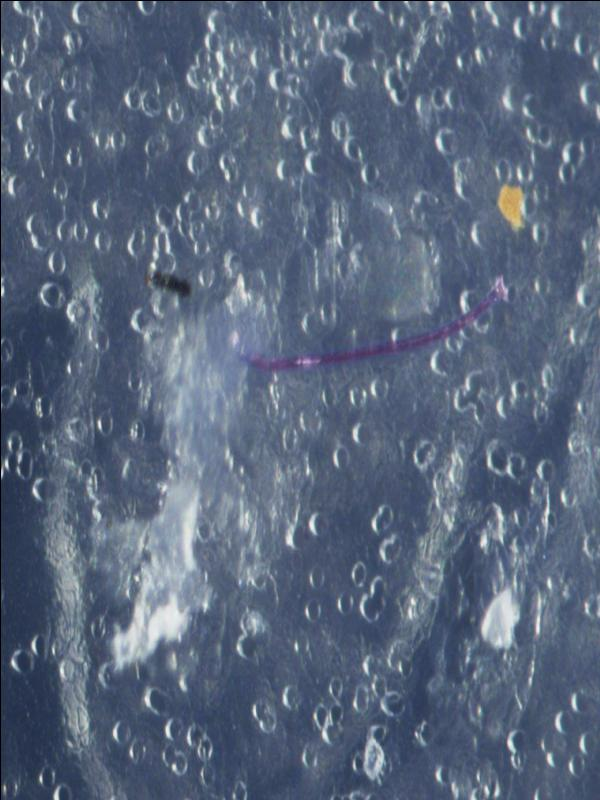microplastic: (2, 1, 599, 797), (237, 272, 508, 373)
